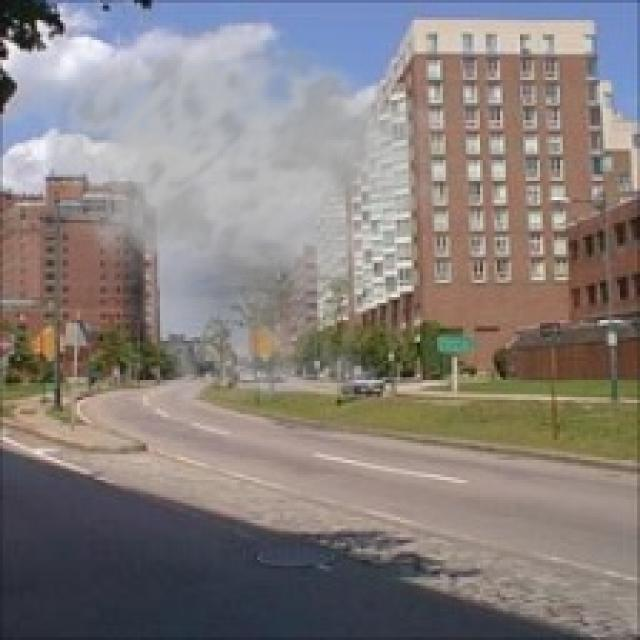smoke: (34, 23, 457, 440)
